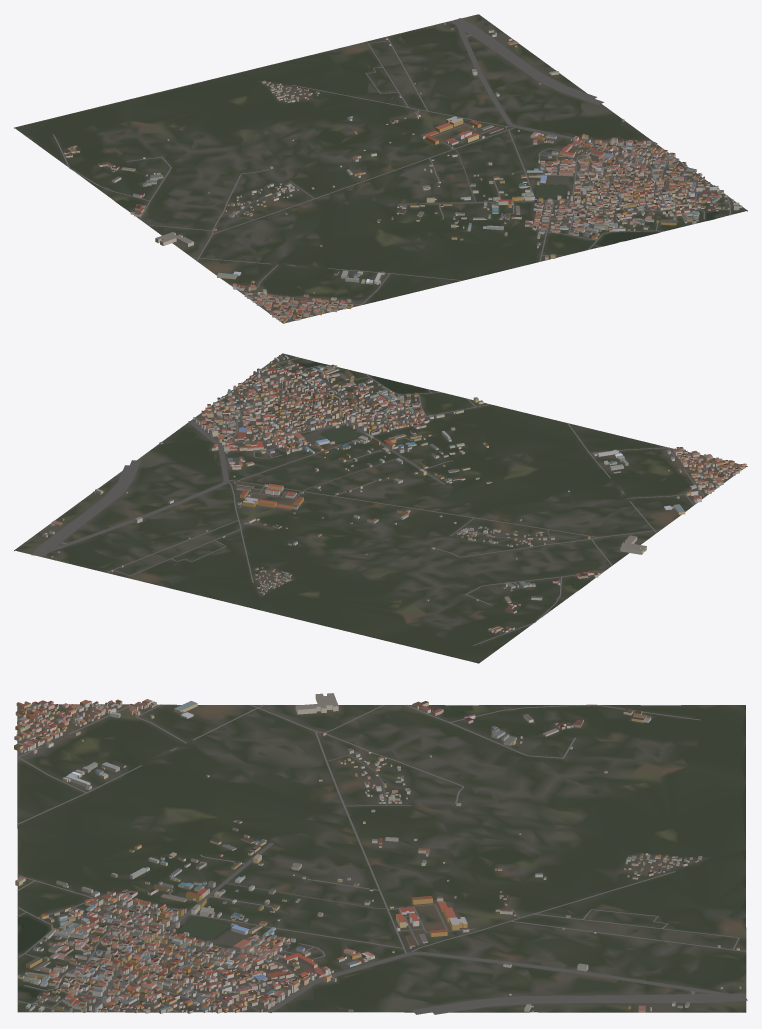
The picture shows the model from 3 angles, top to bottom: view 1: azimuth 30°, elevation 25°; view 2: azimuth 150°, elevation 25°; view 3: azimuth 270°, elevation 25°; orthographic projection. The views are drawn at different scales.
Parts seen in each view (by area): view 1: ground, buildings, roads, water; view 2: ground, buildings, roads, water; view 3: ground, buildings, roads, water.
Boxes of the visible parts, left/top/right/bottom form: ground: left=14, top=14, right=747, bottom=323; buildings: left=64, top=23, right=742, bottom=323; roads: left=53, top=18, right=730, bottom=323; water: left=116, top=134, right=718, bottom=245; ground: left=14, top=353, right=747, bottom=663; buildings: left=42, top=355, right=746, bottom=633; roads: left=31, top=357, right=747, bottom=645; water: left=187, top=362, right=586, bottom=598; ground: left=17, top=704, right=746, bottom=1012; buildings: left=14, top=693, right=741, bottom=1013; roads: left=17, top=704, right=747, bottom=1014; water: left=18, top=705, right=539, bottom=1005.
Bounding box in the file's own units: 1444 × 20.06 × 1412.
